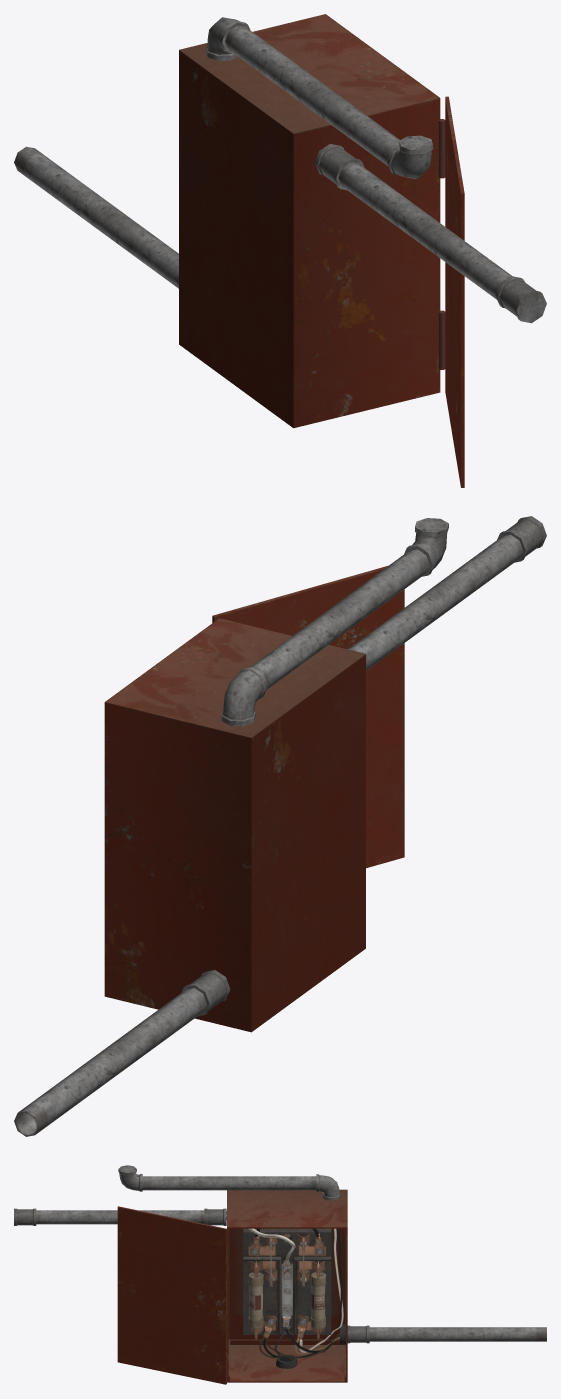
File: Fusebox.glb
The picture shows the model from 3 angles, top to bottom: view 1: azimuth 30°, elevation 25°; view 2: azimuth 150°, elevation 25°; view 3: azimuth 270°, elevation 25°; orthographic projection. The views are drawn at different scales.
Parts seen in each view (by area): view 1: Fuse_Left, Fusebox; view 2: Fuse_Left, Fusebox; view 3: Fuse_Left, Fusebox.
Boxes of the visible parts, left/top/right/bottom form: Fuse_Left: left=14, top=14, right=546, bottom=428; Fusebox: left=438, top=96, right=464, bottom=487; Fuse_Left: left=14, top=516, right=546, bottom=1136; Fusebox: left=212, top=565, right=404, bottom=868; Fuse_Left: left=14, top=1165, right=546, bottom=1382; Fusebox: left=117, top=1206, right=226, bottom=1384.
Bounding box in the file's own units: 0.1263 × 0.2741 × 0.7155.
2 materials, 2 textured.
